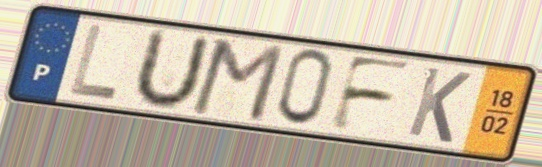0: (273, 46, 336, 129)
F: (324, 52, 418, 135)
K: (403, 64, 475, 147)
L: (65, 22, 122, 103)
M: (186, 36, 288, 126)
U: (126, 26, 214, 112)
